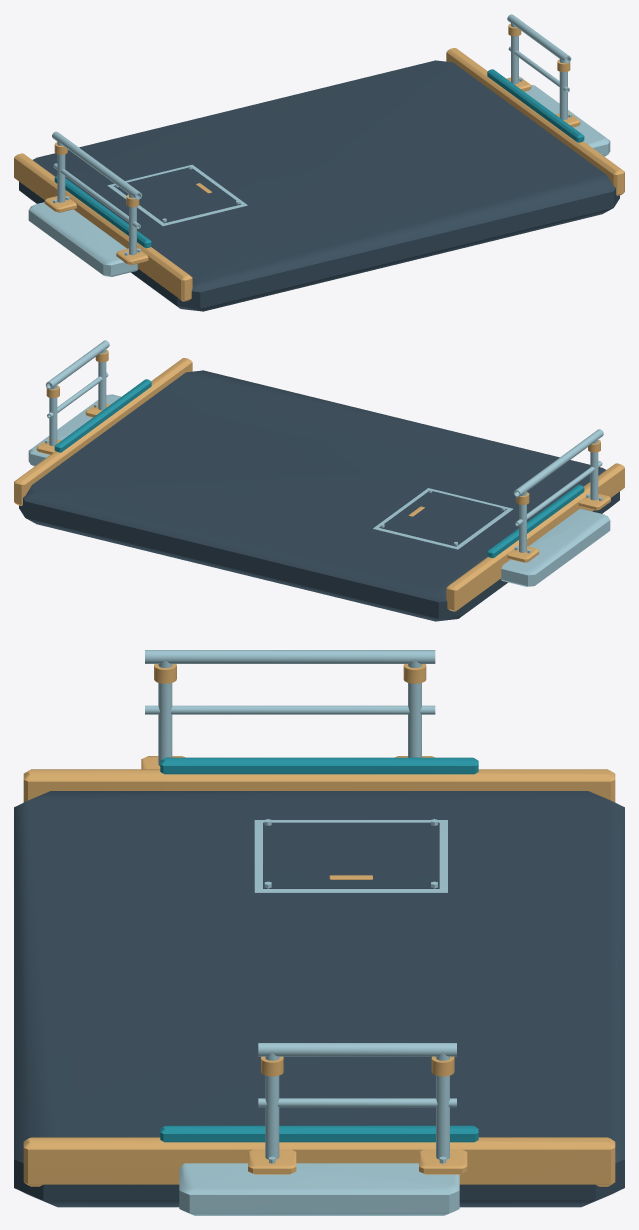
The model's file is SpineConnector.glb.
The picture shows the model from 3 angles, top to bottom: view 1: azimuth 30°, elevation 25°; view 2: azimuth 150°, elevation 25°; view 3: azimuth 270°, elevation 25°; orthographic projection. The views are drawn at different scales.
Parts seen in each view (by area): view 1: joint; view 2: joint; view 3: joint.
Boxes of the visible parts, x1,y1,x2,y2 form: joint: (14,14,624,311); joint: (14,340,624,621); joint: (14,650,624,1215).
Bounding box in the file's own units: 8.02 × 1.54 × 4.8.
